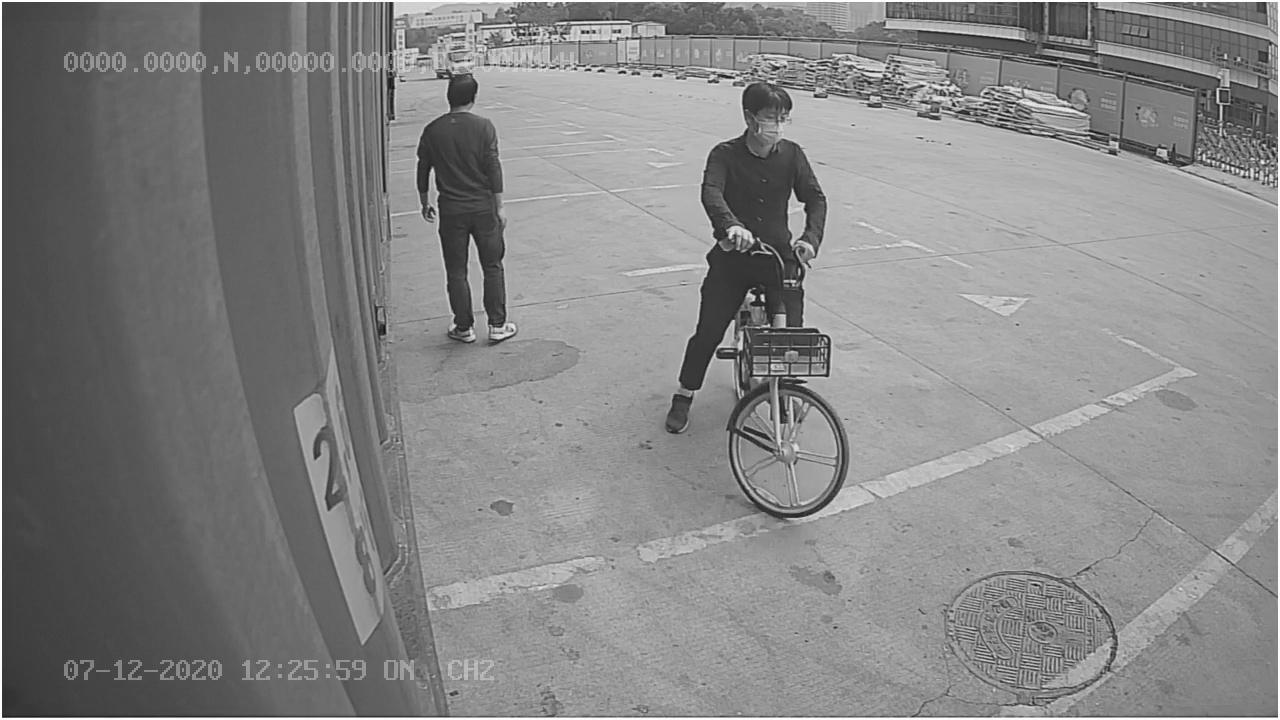person: (412, 69, 523, 345)
